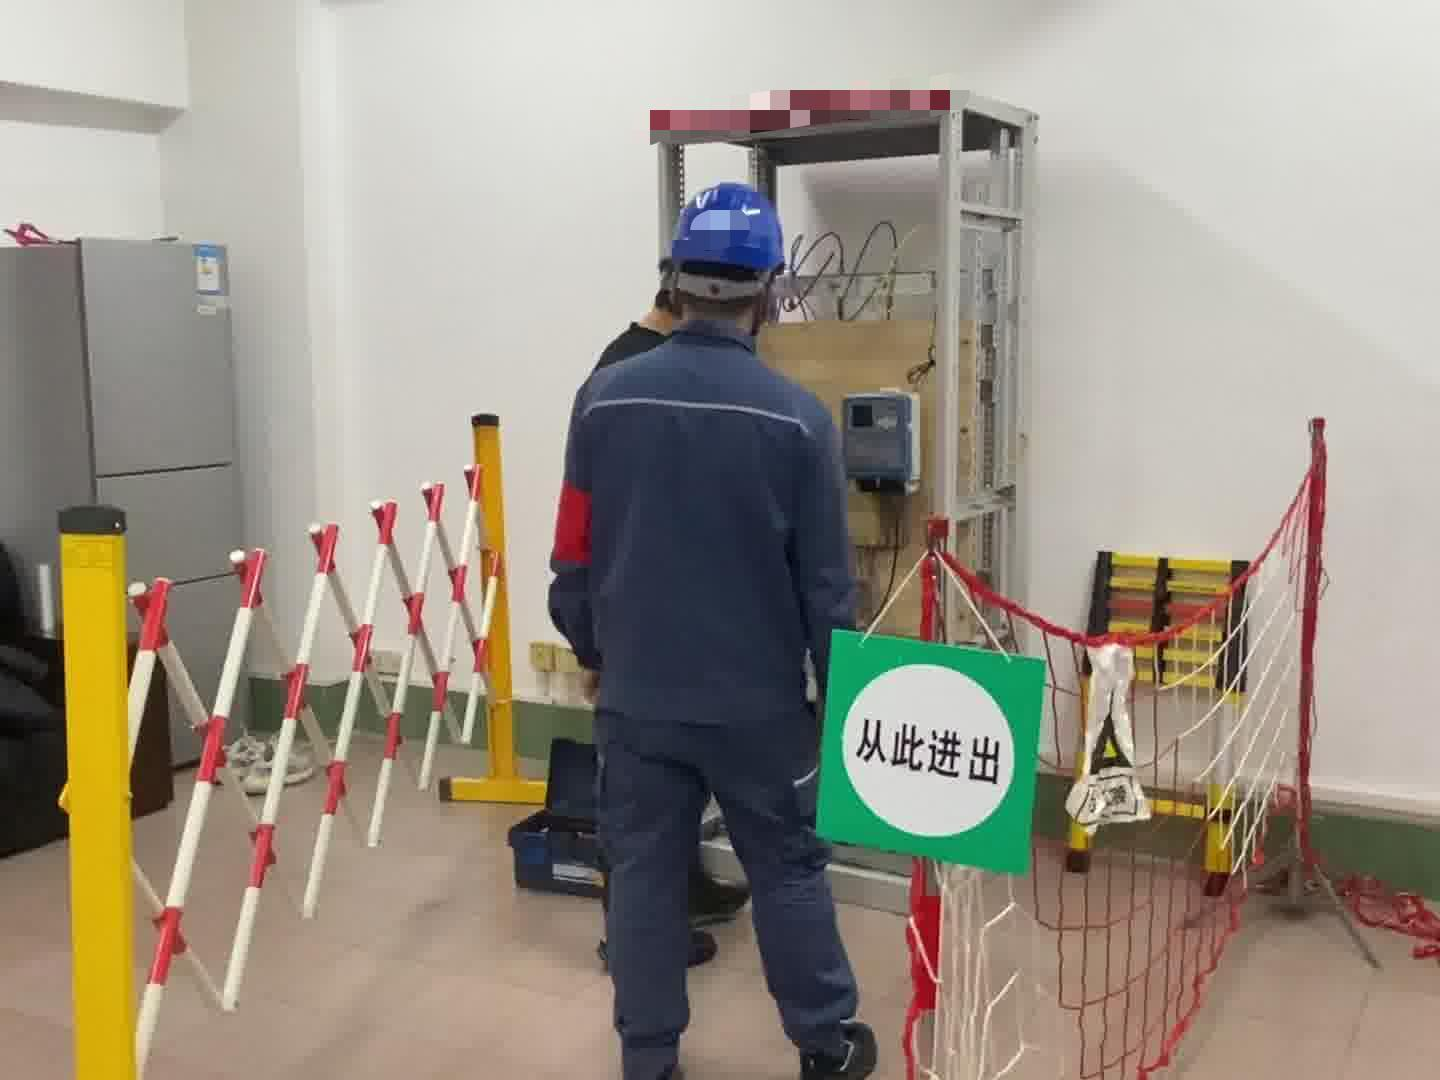halt: (667, 182, 791, 330)
